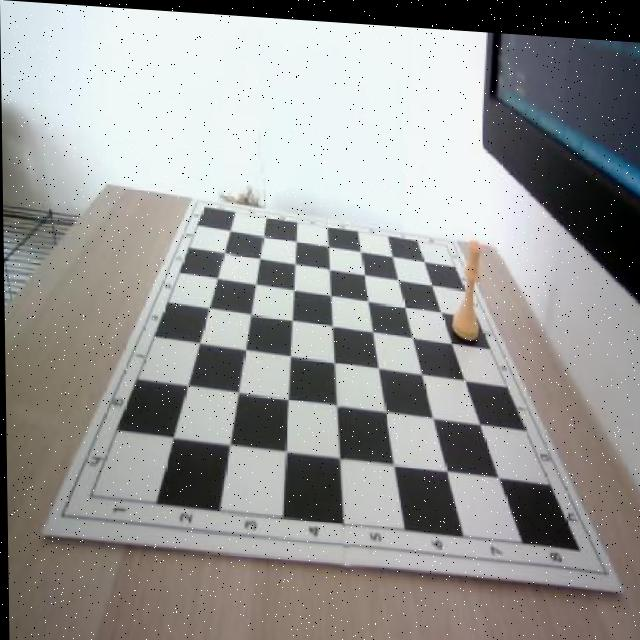white-pawn: (449, 231, 482, 338)
